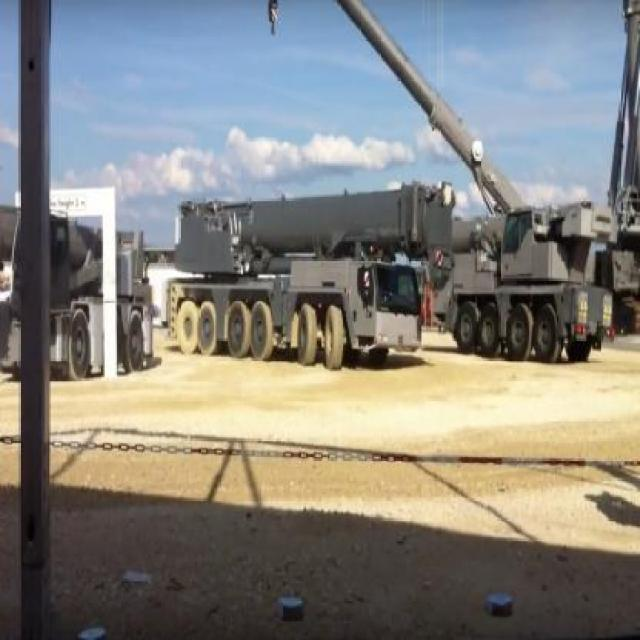Mobile Crane: (265, 0, 623, 369), (166, 200, 454, 368), (2, 214, 146, 381), (592, 0, 638, 357)
